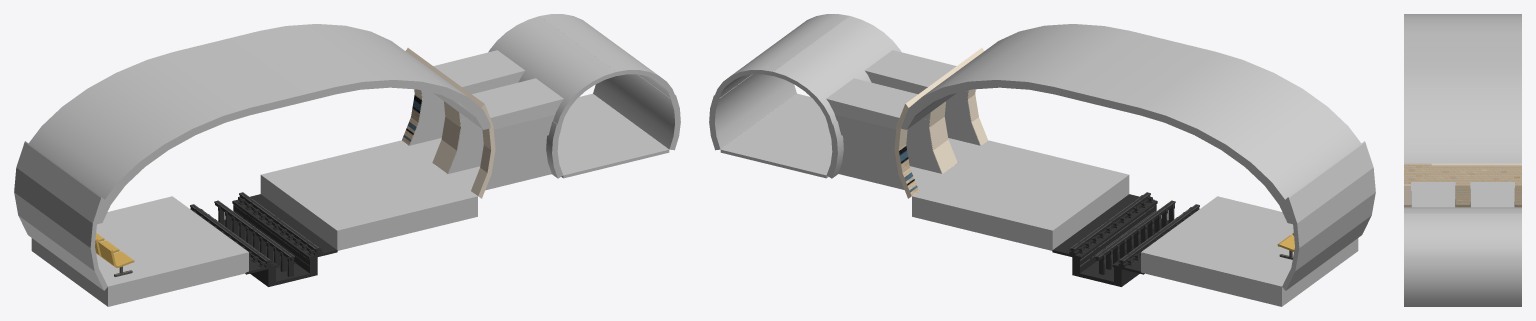
Rendered from stage_3.fbx.
The picture shows the model from 3 angles, left to right: view 1: azimuth 30°, elevation 25°; view 2: azimuth 150°, elevation 25°; view 3: azimuth 270°, elevation 25°; orthographic projection. The views are drawn at different scales.
Visible parts, largest first — view 1: Cylinder.047, Grid.008, Cylinder.016, Grid.096, Cylinder.058, Cylinder.001, Grid, Cube.018, Cylinder.026, Cube.005, Grid.038, Cylinder.007 (+11 smaller); view 2: Cylinder.047, Grid.008, Grid.096, Cylinder.016, Cylinder.058, Cylinder.001, Grid, Cube.010, Cylinder.026, Cube.004, Grid.038, Cylinder.007 (+10 smaller); view 3: Cylinder.016, Cylinder.030, Cylinder.026, Cylinder.047, Cylinder.007, Cube.010, Cube.018, Cylinder.001.
Boxes of the visible parts, box(x1,y1,x2,y2) form: Cylinder.047: box(28, 41, 292, 224); Grid.008: box(260, 140, 477, 250); Cylinder.016: box(217, 24, 490, 129); Grid.096: box(31, 196, 248, 306); Cylinder.058: box(14, 141, 107, 290); Cylinder.001: box(488, 16, 616, 125); Grid: box(557, 93, 669, 178); Cube.018: box(459, 78, 563, 148); Cylinder.026: box(593, 74, 680, 150); Cube.005: box(448, 118, 551, 189); Grid.038: box(200, 194, 337, 286); Cylinder.007: box(402, 48, 495, 198); Cylinder.047: box(1097, 41, 1361, 224); Grid.008: box(912, 140, 1129, 250); Grid.096: box(1141, 196, 1358, 306); Cylinder.016: box(898, 24, 1172, 129); Cylinder.058: box(1282, 141, 1375, 290); Cylinder.001: box(773, 16, 901, 124); Grid: box(720, 93, 832, 178); Cube.010: box(826, 78, 930, 148); Cylinder.026: box(709, 74, 796, 150); Cube.004: box(838, 118, 941, 189); Grid.038: box(1052, 194, 1188, 286); Cylinder.007: box(894, 48, 987, 198); Cylinder.016: box(1404, 50, 1521, 163); Cylinder.030: box(1404, 213, 1521, 265); Cylinder.026: box(1404, 265, 1521, 306); Cylinder.047: box(1404, 14, 1521, 50); Cylinder.007: box(1404, 163, 1521, 207); Cube.010: box(1470, 182, 1514, 207); Cube.018: box(1411, 182, 1455, 207); Cylinder.001: box(1404, 207, 1521, 213).
Size of the model in its own units: 2068 by 615 by 464.
